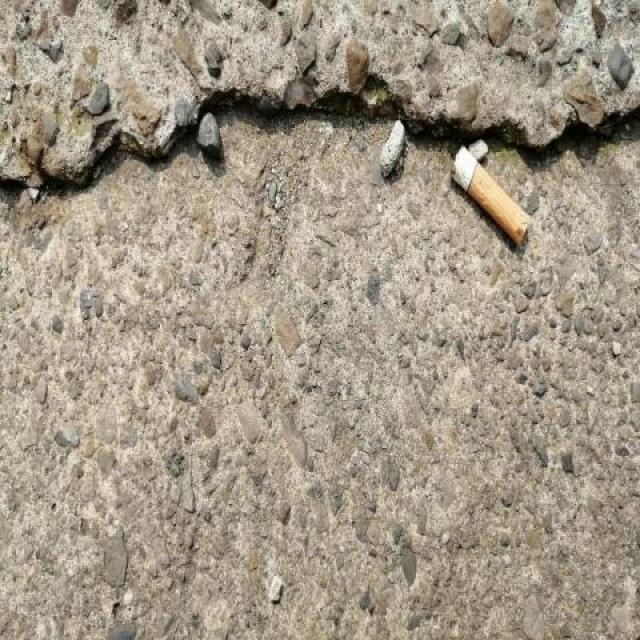non-organic waste: (445, 141, 532, 251)
